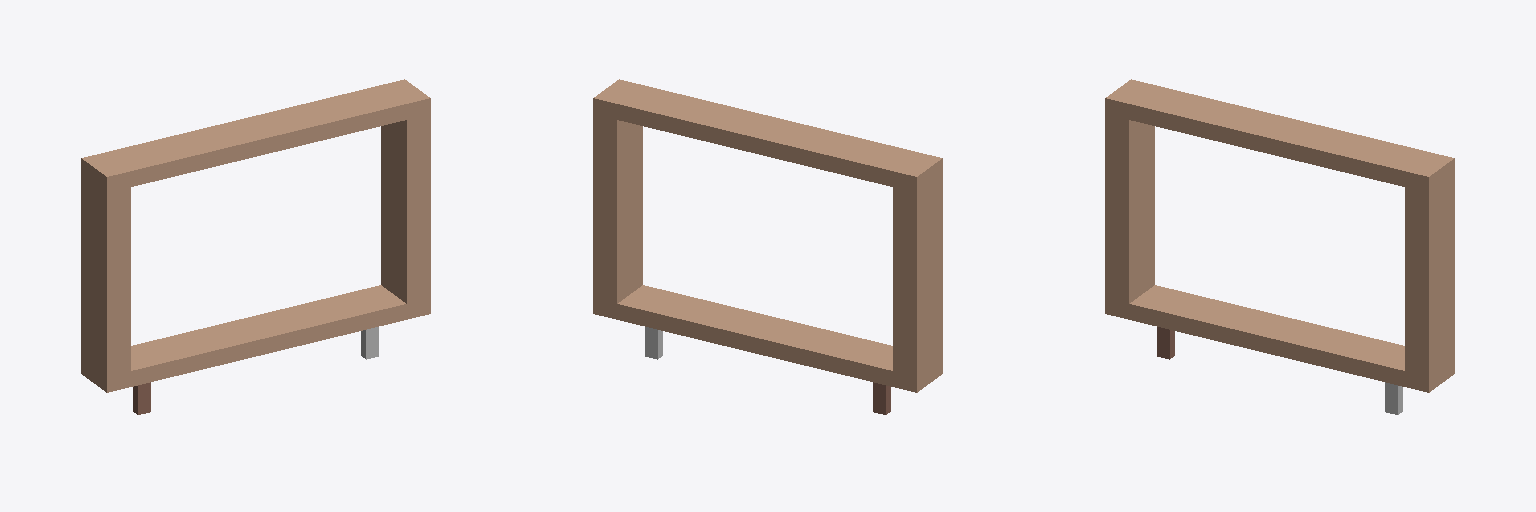
The model's file is billboard.obj.
The picture shows the model from 3 angles: view 1: azimuth 30°, elevation 25°; view 2: azimuth 150°, elevation 25°; view 3: azimuth 330°, elevation 25°; orthographic projection.
Visible parts, largest first — view 1: Cube.003_Cube.005, Cube, Cube.001_Cube.002; view 2: Cube.003_Cube.005, Cube, Cube.001_Cube.002; view 3: Cube.003_Cube.005, Cube.001_Cube.002, Cube.
Part boxes in pixels (left/top/right/bottom): Cube.003_Cube.005: left=81, top=79, right=430, bottom=392; Cube: left=361, top=327, right=378, bottom=359; Cube.001_Cube.002: left=133, top=382, right=150, bottom=414; Cube.003_Cube.005: left=593, top=79, right=942, bottom=392; Cube: left=645, top=327, right=662, bottom=359; Cube.001_Cube.002: left=873, top=382, right=890, bottom=414; Cube.003_Cube.005: left=1105, top=79, right=1454, bottom=392; Cube.001_Cube.002: left=1157, top=327, right=1174, bottom=359; Cube: left=1385, top=382, right=1402, bottom=414.
Size of the model in its own units: 3.13 by 2.36 by 0.4314.